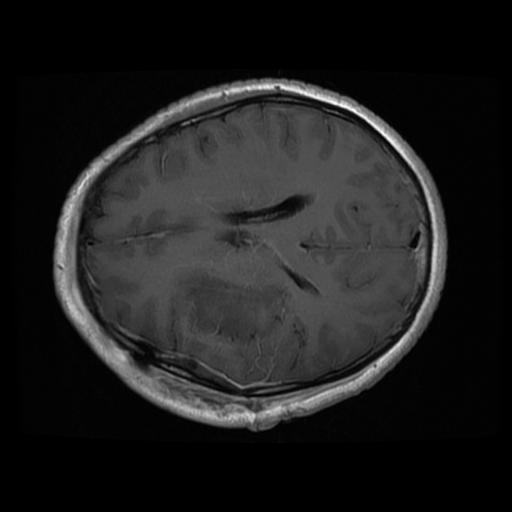glioma: (170, 266, 291, 347)
